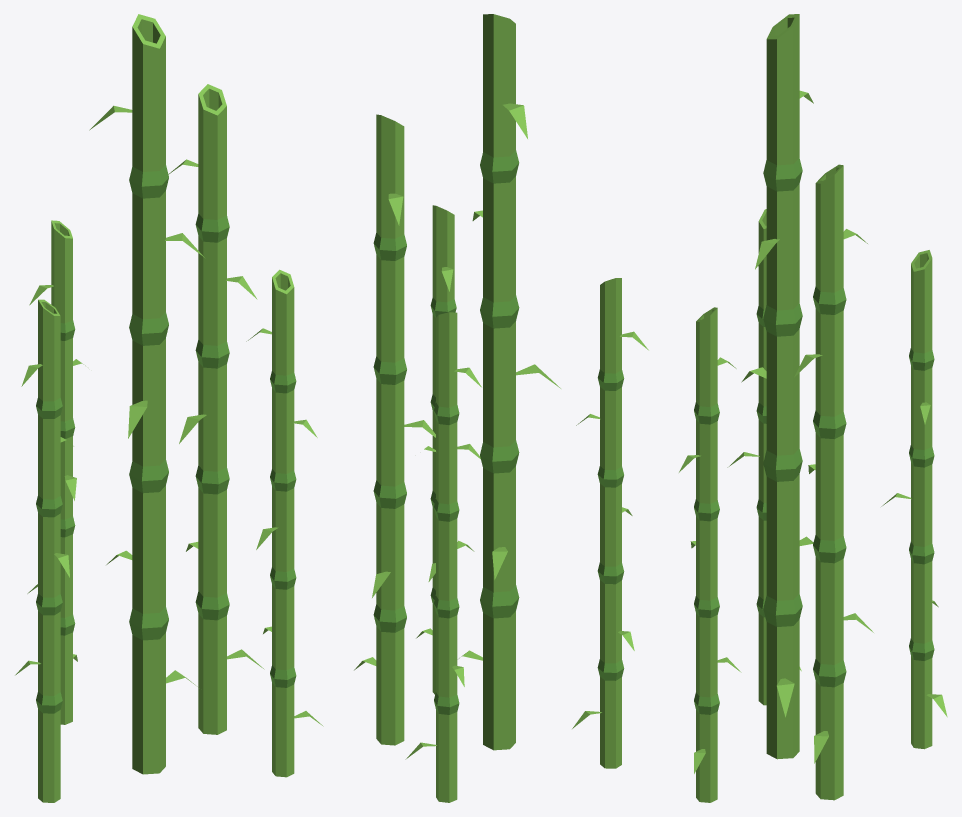
The model's file is Bamboos_02.fbx.
3 renders of one model, left to right at view 1: azimuth 30°, elevation 25°; view 2: azimuth 150°, elevation 25°; view 3: azimuth 270°, elevation 25°, orthographic.
Visible parts, largest first — view 1: Bamboos_02; view 2: Bamboos_02; view 3: Bamboos_02.
Boxes of the visible parts, x1=… form: Bamboos_02: x1=15, y1=14, x2=323, y2=802; Bamboos_02: x1=354, y1=14, x2=648, y2=802; Bamboos_02: x1=679, y1=14, x2=947, y2=802.
Size of the model in its own units: 173 by 453 by 150.
